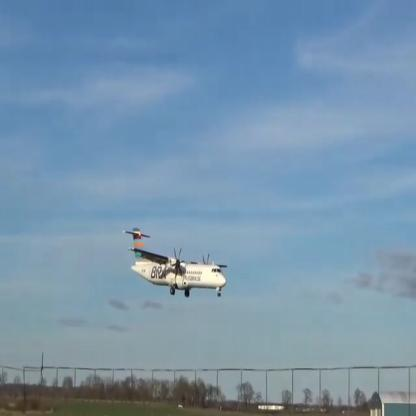CIV_Plane: (126, 228, 230, 298)
